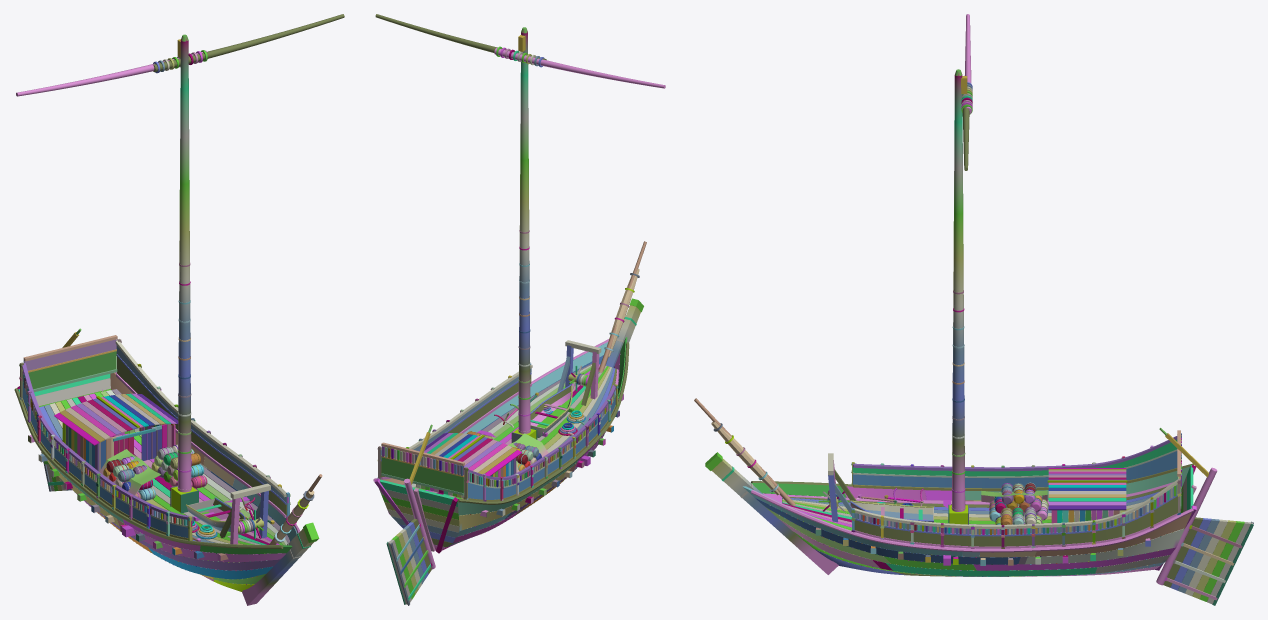
File: ship.glb
3 renders of one model, left to right at view 1: azimuth 30°, elevation 25°; view 2: azimuth 150°, elevation 25°; view 3: azimuth 270°, elevation 25°, orthographic. The views are drawn at different scales.
Parts seen in each view (by area): view 1: hull, yard, rudder; view 2: hull, rudder, yard; view 3: hull, rudder, yard.
Part boxes in pixels (x1,y1,x2,y2): hull: (14, 34, 322, 605); yard: (16, 14, 344, 96); rudder: (41, 328, 81, 491); hull: (373, 27, 646, 553); rudder: (386, 424, 435, 605); yard: (375, 14, 665, 88); hull: (694, 69, 1196, 576); rudder: (1156, 428, 1253, 605); yard: (961, 14, 972, 170).
Bounding box in the file's own units: 19.21 × 31.13 × 29.56.
